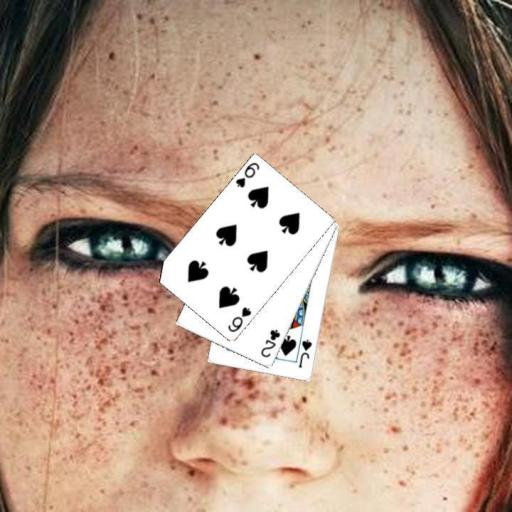card-corner: (233, 159, 261, 189), (225, 304, 252, 334), (258, 327, 282, 359), (296, 336, 314, 369)
